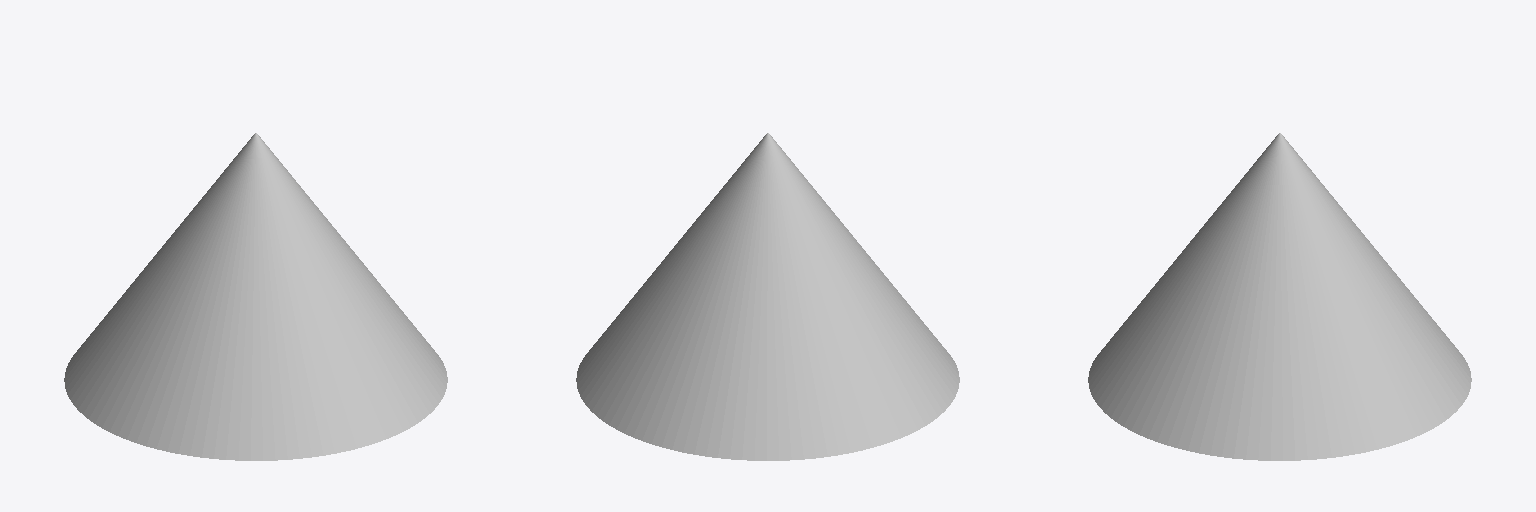
The model's file is perot_eyes.obj.
The picture shows the model from 3 angles: view 1: azimuth 30°, elevation 25°; view 2: azimuth 150°, elevation 25°; view 3: azimuth 270°, elevation 25°; orthographic projection.
Visible parts, largest first — view 1: mesh; view 2: mesh; view 3: mesh.
Boxes of the visible parts, <box> form: mesh: <box>64,133,447,460</box>; mesh: <box>576,133,959,460</box>; mesh: <box>1088,133,1471,460</box>.
Bounding box in the file's own units: 1108 × 791 × 1108.